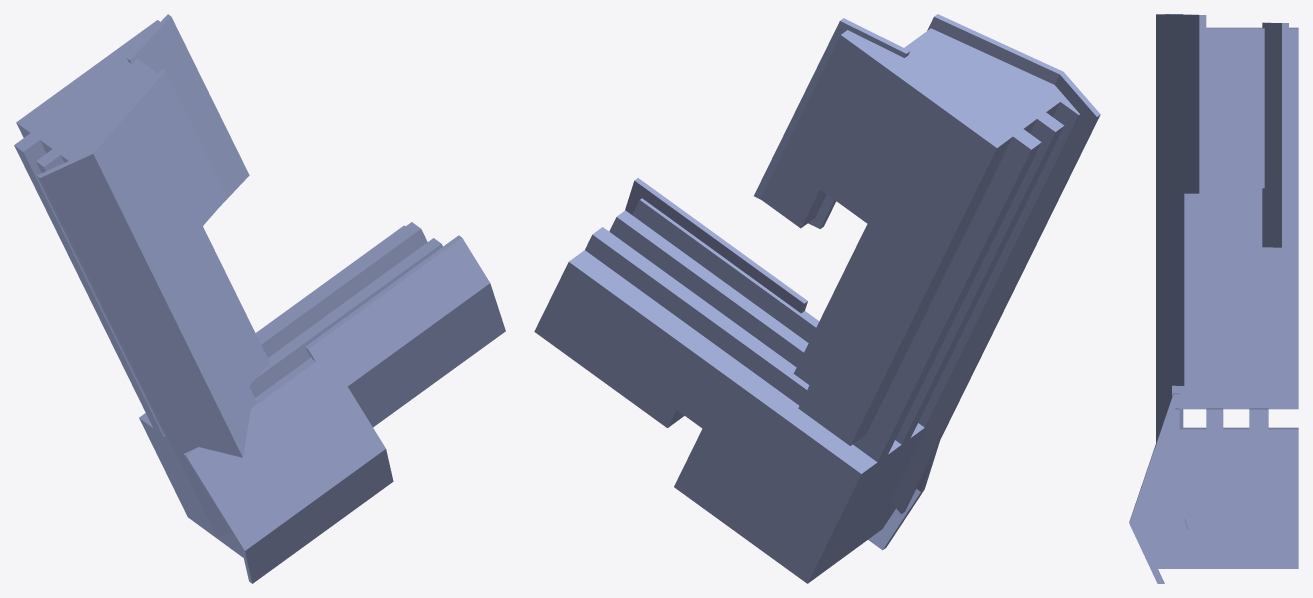
Rendered from raffles-hall4.glb.
The picture shows the model from 3 angles, left to right: view 1: azimuth 30°, elevation 25°; view 2: azimuth 150°, elevation 25°; view 3: azimuth 270°, elevation 25°; orthographic projection. The views are drawn at different scales.
Parts seen in each view (by area): view 1: Raffles Hall Blk 4; view 2: Raffles Hall Blk 4; view 3: Raffles Hall Blk 4.
Boxes of the visible parts, left/top/right/bottom form: Raffles Hall Blk 4: left=14, top=14, right=505, bottom=583; Raffles Hall Blk 4: left=534, top=14, right=1100, bottom=583; Raffles Hall Blk 4: left=1129, top=14, right=1298, bottom=583.
Size of the model in its own units: 39.77 by 42.94 by 12.02.
